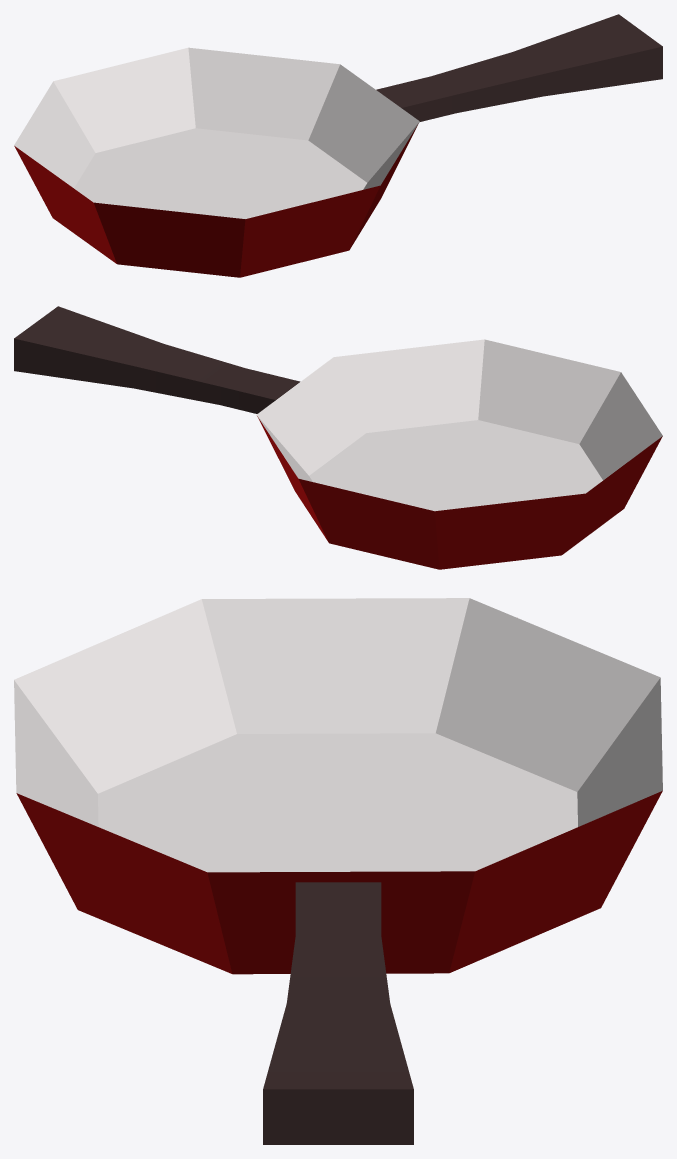
File: pan.fbx
3 renders of one model, top to bottom at view 1: azimuth 30°, elevation 25°; view 2: azimuth 150°, elevation 25°; view 3: azimuth 270°, elevation 25°, orthographic. The views are drawn at different scales.
Parts seen in each view (by area): view 1: polySurface1; view 2: polySurface1; view 3: polySurface1.
Part boxes in pixels (x1,y1,x2,y2): polySurface1: (14, 14, 662, 277); polySurface1: (14, 306, 662, 569); polySurface1: (14, 598, 662, 1144).
Size of the model in its own units: 33.16 by 4.04 by 18.54.
